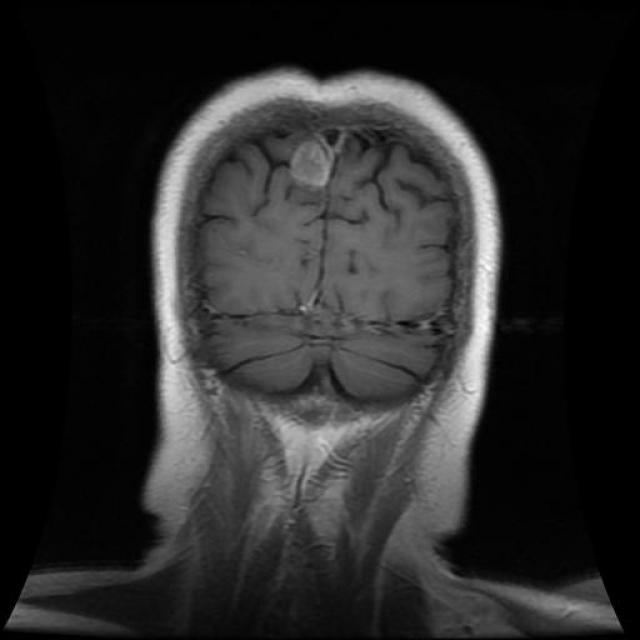meningioma: (290, 142, 326, 186)
